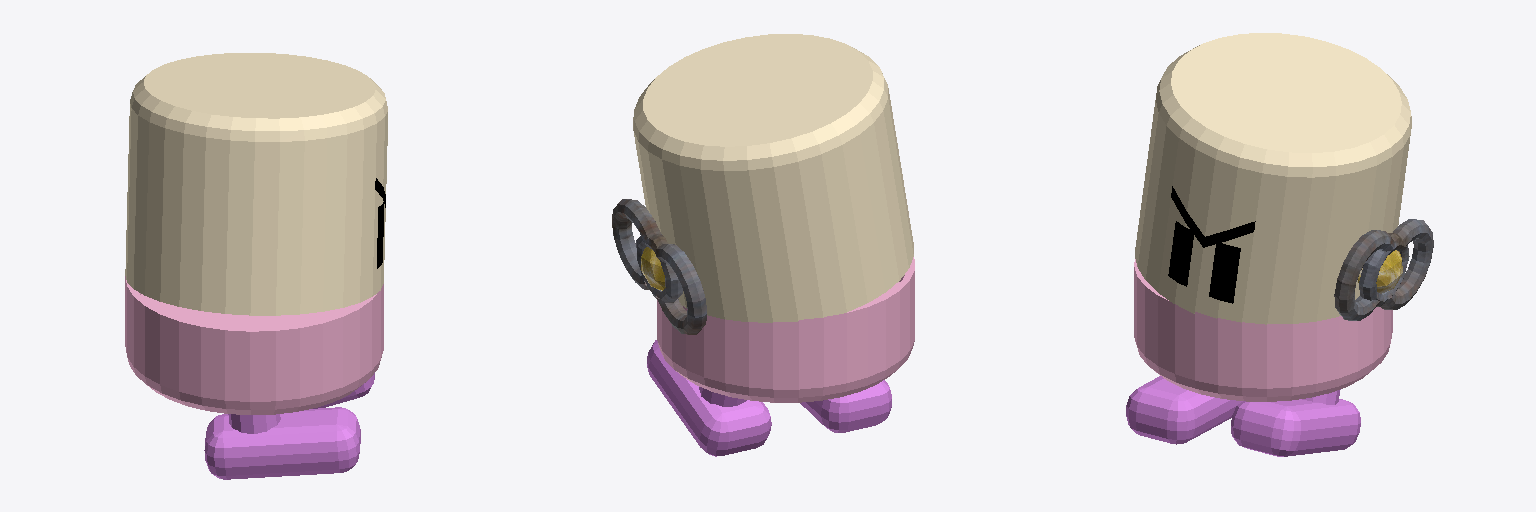
3 views of the same model, side by side, from view 1: azimuth 30°, elevation 25°; view 2: azimuth 150°, elevation 25°; view 3: azimuth 270°, elevation 25° (orthographic).
Parts seen in each view (by area): view 1: Head, Jaw, RightLeg; view 2: Head, Jaw, WindupKey, LeftLeg, RightLeg; view 3: Head, Jaw, WindupKey, LeftLeg, RightLeg.
Boxes of the visible parts, box(x1,y1,x2,y2) form: Head: box(125, 53, 387, 315); Jaw: box(125, 276, 383, 414); RightLeg: box(204, 407, 360, 479); Head: box(633, 34, 913, 322); Jaw: box(657, 257, 914, 402); WindupKey: box(612, 199, 706, 334); LeftLeg: box(647, 340, 771, 456); RightLeg: box(800, 380, 891, 432); Head: box(1135, 33, 1411, 324); Jaw: box(1134, 259, 1392, 401); WindupKey: box(1334, 219, 1433, 320); LeftLeg: box(1231, 389, 1360, 456); RightLeg: box(1126, 376, 1242, 444).
Size of the model in its own units: 109 by 155 by 119.
Materials: 6 (2 with a texture image).